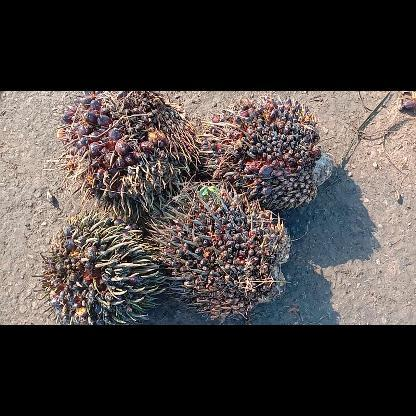TBS abnormal: (143, 176, 295, 322), (195, 93, 336, 210), (36, 206, 168, 324)
TBS masak: (57, 92, 203, 222)
